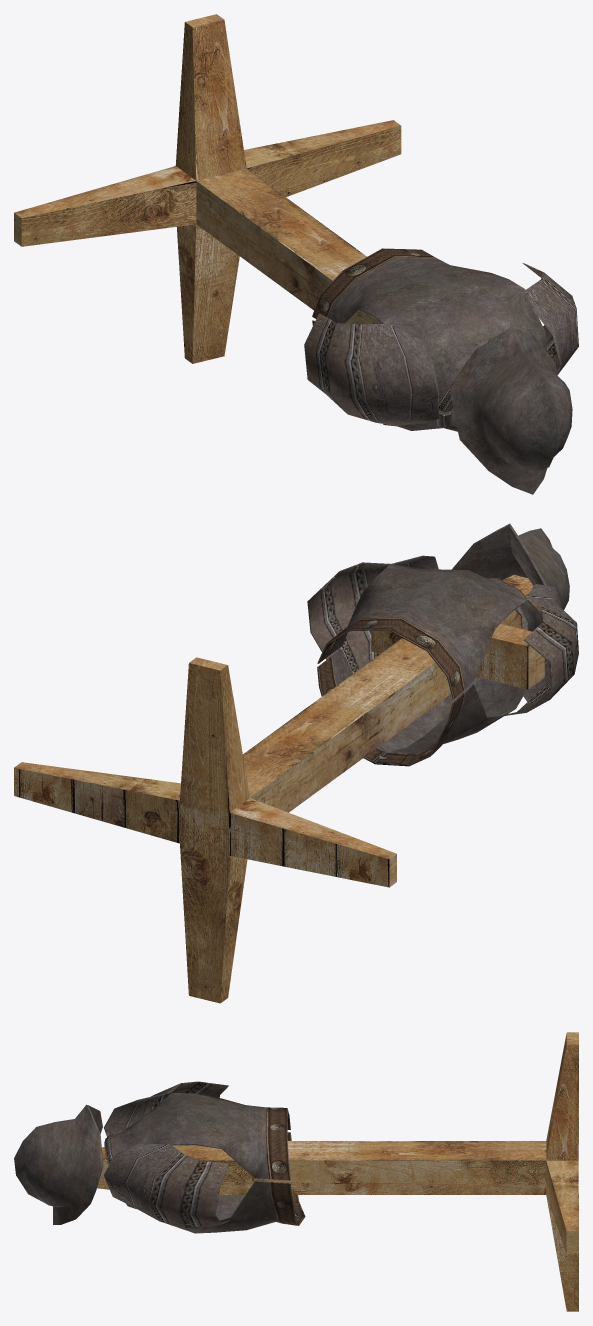
File: armorstand.obj
3 views of the same model, one above another, from view 1: azimuth 30°, elevation 25°; view 2: azimuth 150°, elevation 25°; view 3: azimuth 270°, elevation 25° (orthographic). The views are drawn at different scales.
Parts seen in each view (by area): view 1: object; view 2: object; view 3: object.
Boxes of the visible parts, left/top/right/bottom form: object: left=14, top=14, right=578, bottom=494; object: left=14, top=523, right=578, bottom=1003; object: left=14, top=1032, right=578, bottom=1311.
Bounding box in the file's own units: 94.88 × 80.36 × 154.
